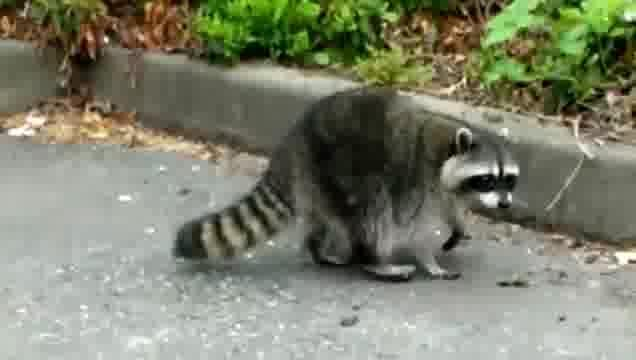raccoon: (171, 80, 522, 295)
